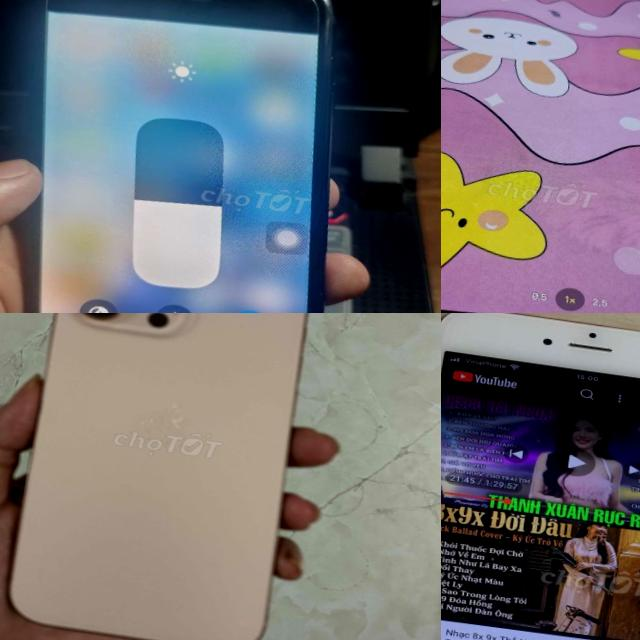gen_12_13: (441, 0, 640, 313)
gen_16: (10, 313, 307, 640)
gen_6: (441, 313, 640, 640)
gen_7_8: (0, 0, 385, 313)
